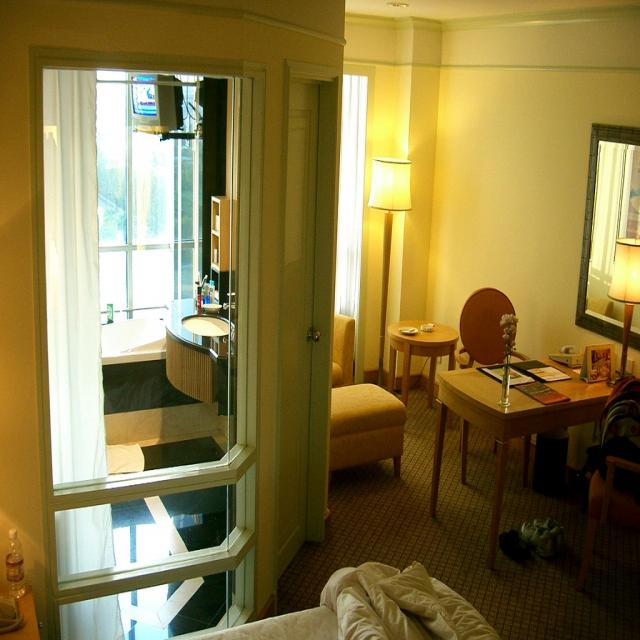chair: (430, 287, 520, 524), (574, 375, 640, 595)
desk: (442, 344, 614, 551)
